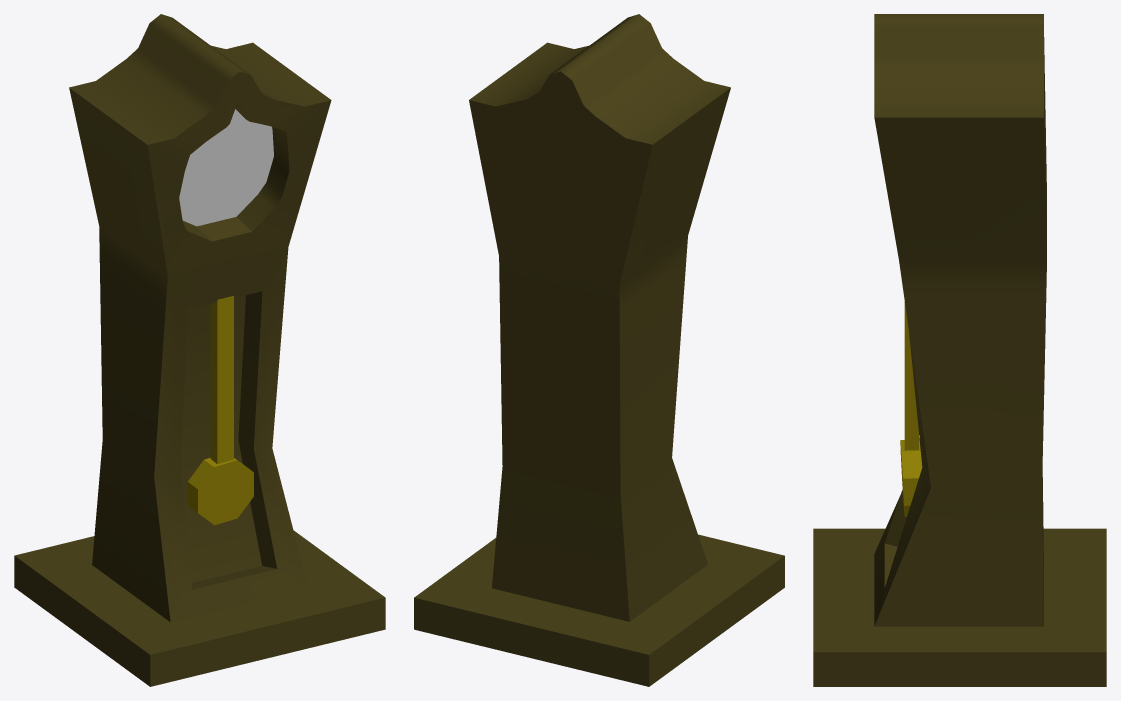
File: GrandFatherClock.fbx
The picture shows the model from 3 angles, left to right: view 1: azimuth 30°, elevation 25°; view 2: azimuth 150°, elevation 25°; view 3: azimuth 270°, elevation 25°; orthographic projection. The views are drawn at different scales.
Visible parts, largest first — view 1: pasted__pCube1; view 2: pasted__pCube1; view 3: pasted__pCube1.
Boxes of the visible parts, box(x1,y1,x2,y2) form: pasted__pCube1: box(14, 14, 385, 686); pasted__pCube1: box(414, 14, 784, 686); pasted__pCube1: box(813, 14, 1106, 686).
Bounding box in the file's own units: 5.29 × 12.17 × 5.29.
